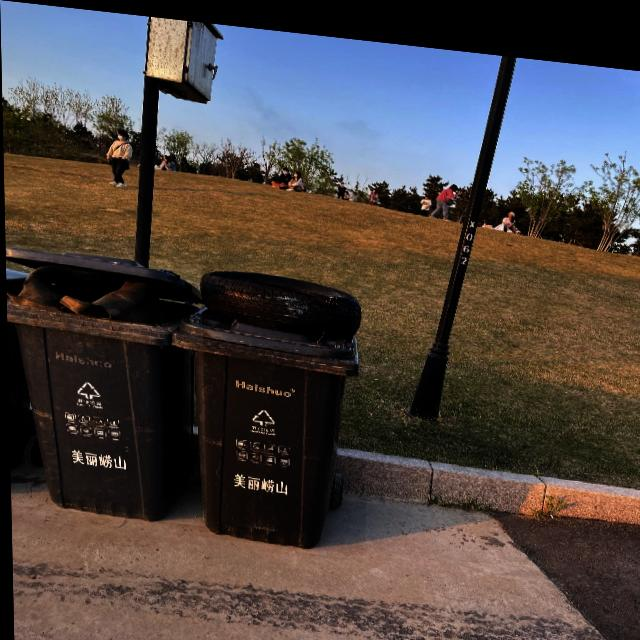overflow: (169, 258, 364, 547), (4, 244, 205, 522)
